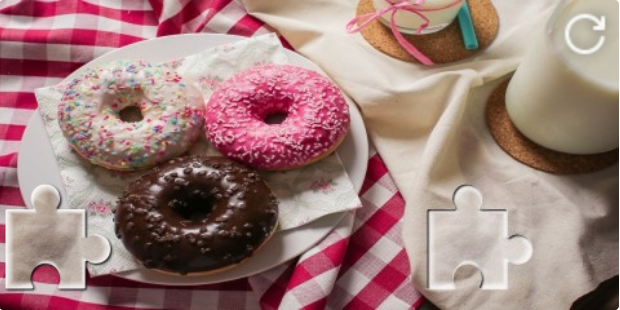target: (427, 185, 533, 289)
